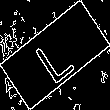L_NW: (30, 26, 80, 84)
